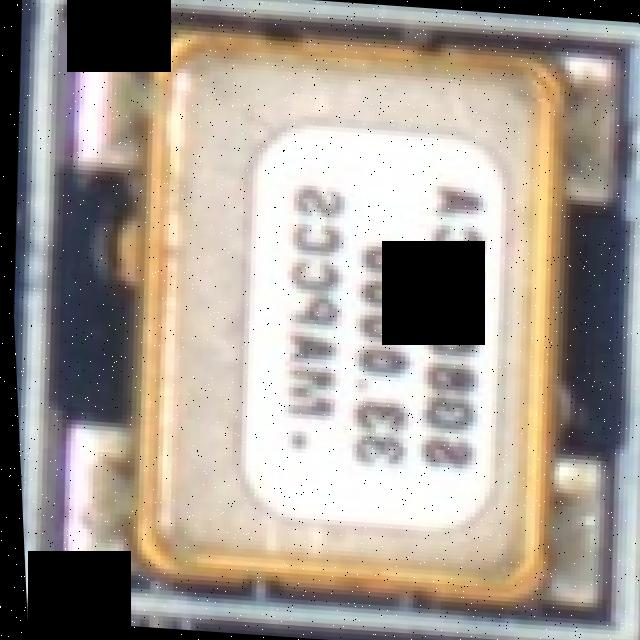clock Q1: (52, 14, 630, 618)
